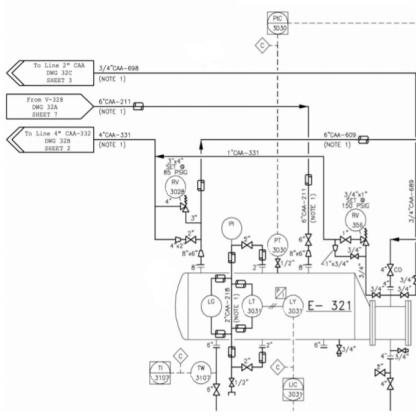LMI: (218, 212, 243, 240), (344, 207, 367, 232), (190, 359, 212, 385), (267, 233, 290, 257), (199, 295, 222, 318), (241, 294, 263, 318), (282, 294, 304, 318), (165, 174, 186, 198)
TAG: (146, 359, 172, 391), (264, 5, 288, 36), (281, 377, 307, 403)
